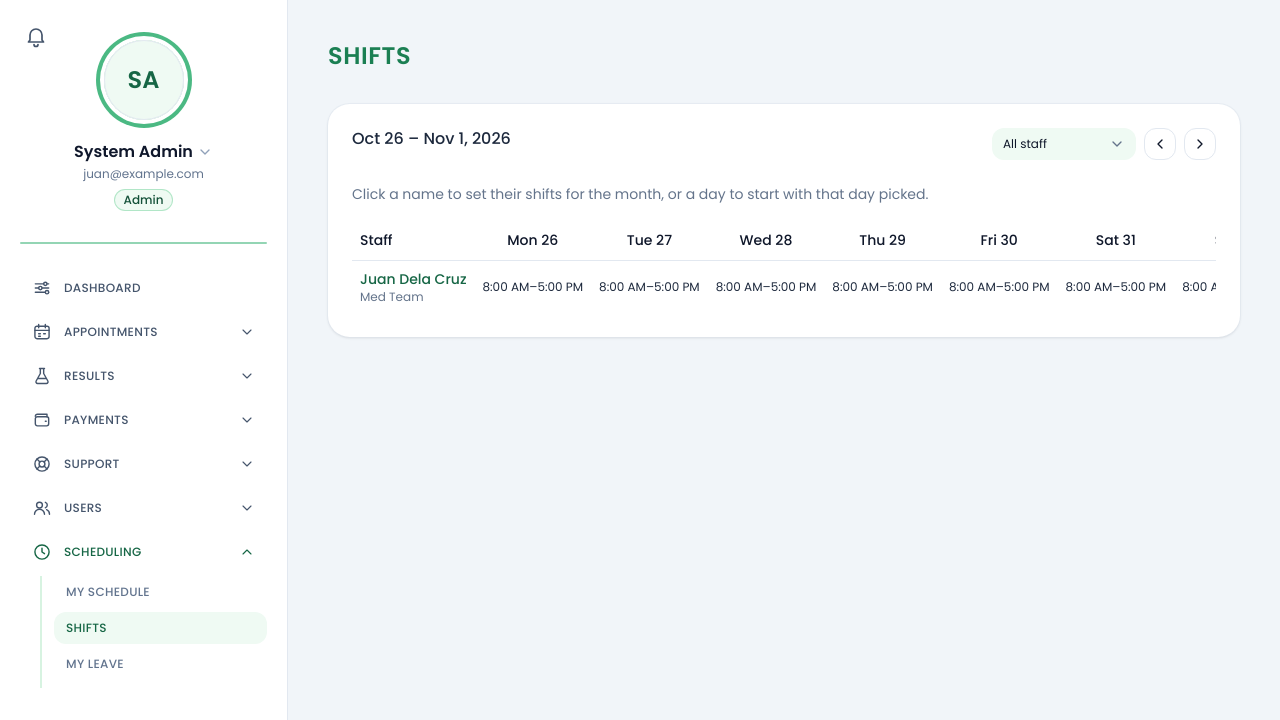
Scenario: ShiftsPage › opens a clicked day already picked, and makes it a day off
Click the button with aria-label "Juan Dela Cruz, " at (533, 286), box [478,270,587,302]
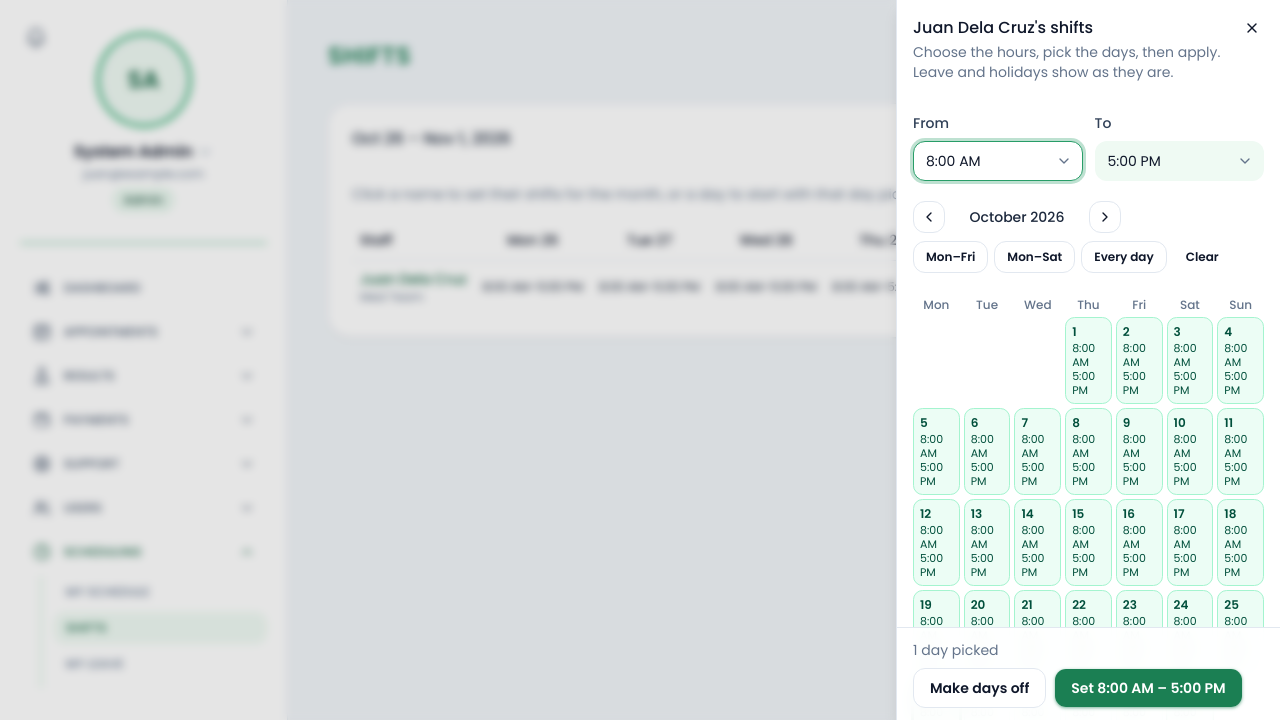
Expected: the text "1 day picked" is shown, [913,640,998,660]
Click the button "Make days off" at (980, 688), box [913,668,1046,708]
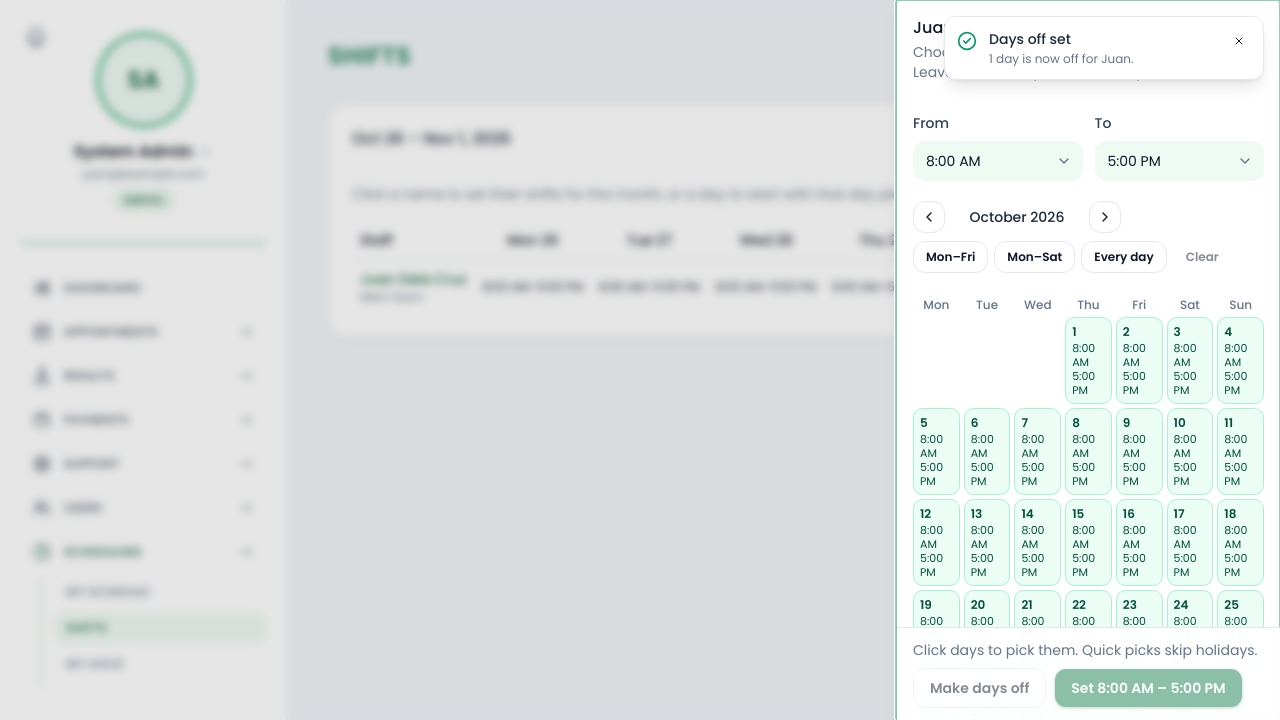
Expected: the text "Days off set" is shown, [989,29,1071,49]
